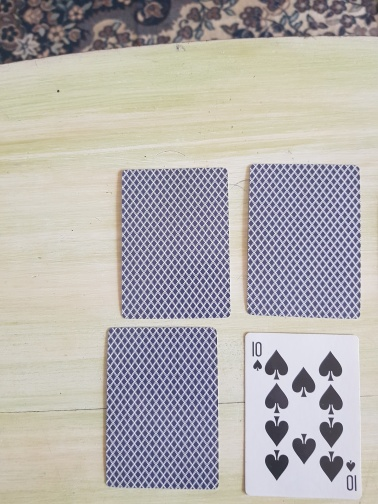ten: (243, 331, 364, 500)
